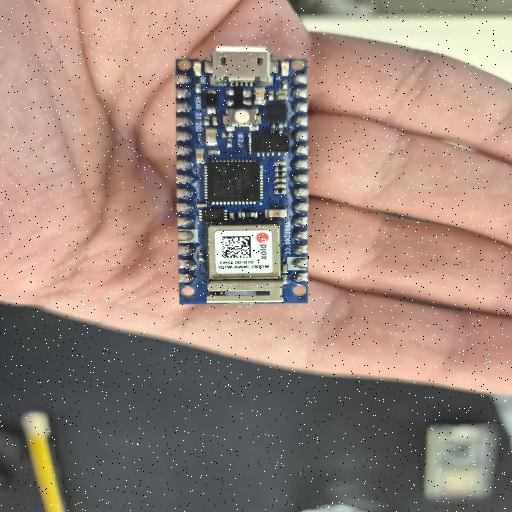arduino-nano-iot-33: (178, 54, 306, 306)
